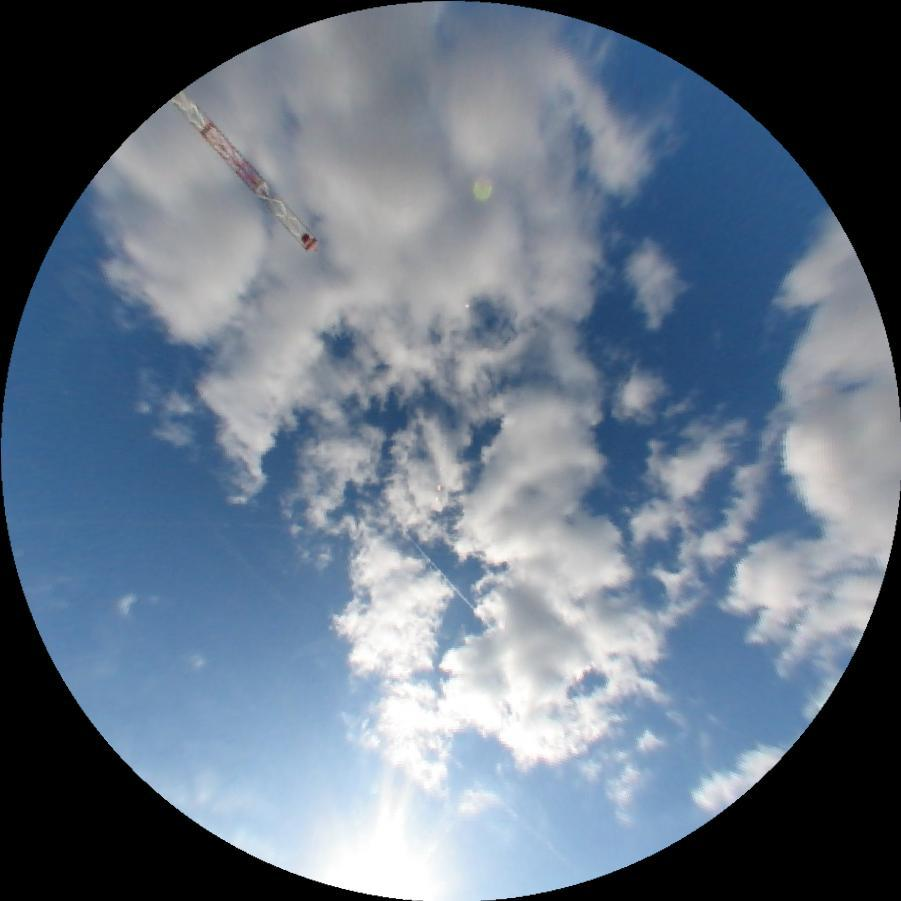contrail young: (405, 533, 494, 630)
parasite: (6, 515, 287, 528)
sun: (320, 821, 448, 901)
unknow: (209, 525, 571, 866)
